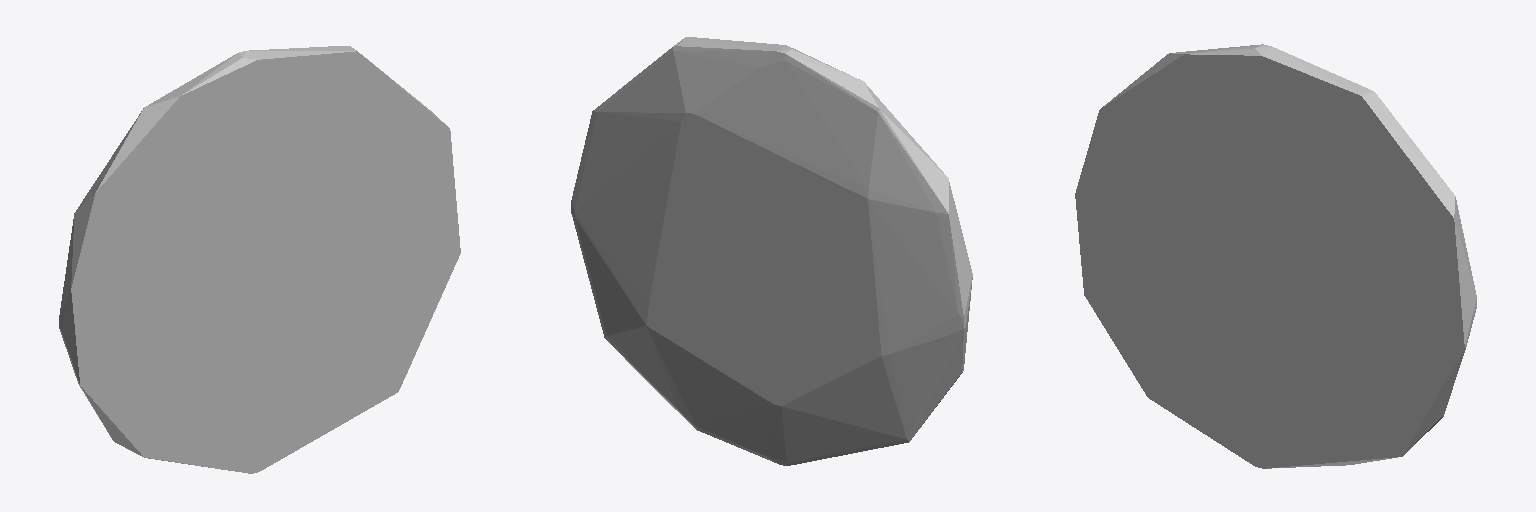
File: pie3_v.obj
3 renders of one model, left to right at view 1: azimuth 30°, elevation 25°; view 2: azimuth 150°, elevation 25°; view 3: azimuth 330°, elevation 25°, orthographic.
Visible parts, largest first — view 1: convex_0; view 2: convex_0; view 3: convex_0.
Boxes of the visible parts, x1,y1,x2,y2 form: convex_0: [59, 46, 460, 473]; convex_0: [571, 37, 972, 465]; convex_0: [1075, 44, 1476, 468].
Size of the model in its own units: 0.1209 by 0.1219 by 0.0107.